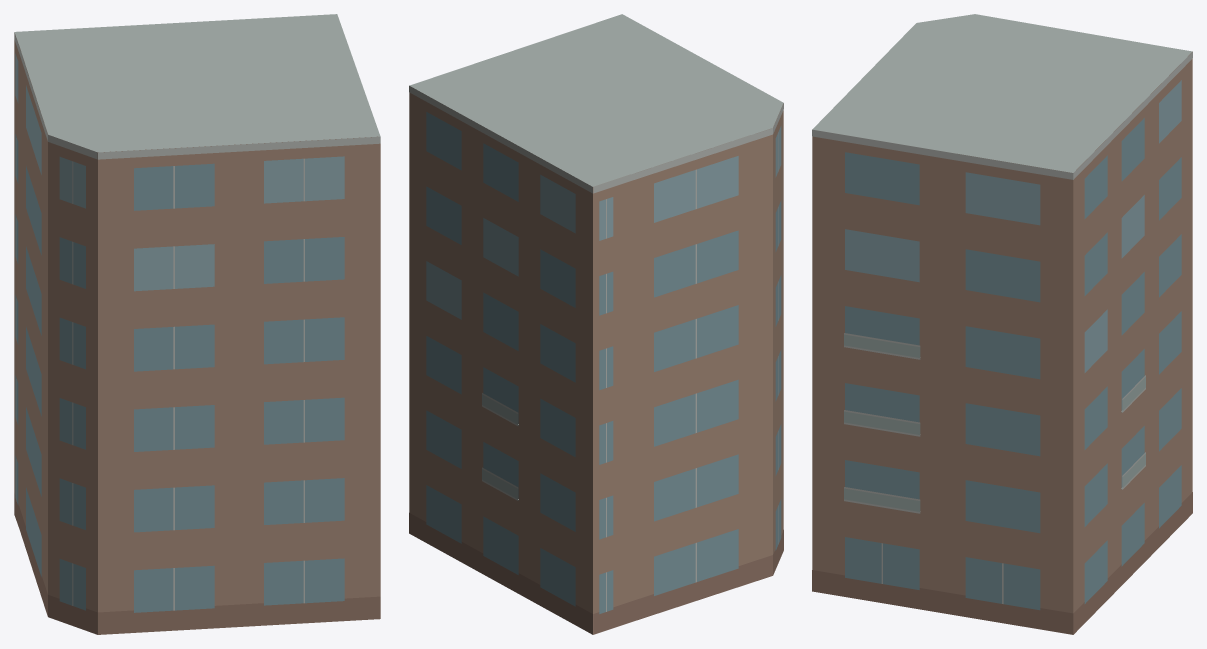
File: survey-upis-32879231.glb
The picture shows the model from 3 angles, left to right: view 1: azimuth 30°, elevation 25°; view 2: azimuth 150°, elevation 25°; view 3: azimuth 270°, elevation 25°; orthographic projection. The views are drawn at different scales.
Visible parts, largest first — view 1: survey-upis-32879231.tmp; view 2: survey-upis-32879231.tmp; view 3: survey-upis-32879231.tmp.
Boxes of the visible parts, x1=… form: survey-upis-32879231.tmp: x1=14, y1=14, x2=380, y2=634; survey-upis-32879231.tmp: x1=409, y1=14, x2=783, y2=634; survey-upis-32879231.tmp: x1=812, y1=14, x2=1192, y2=634.
Bounding box in the file's own units: 12.12 × 16.4 × 12.26.
